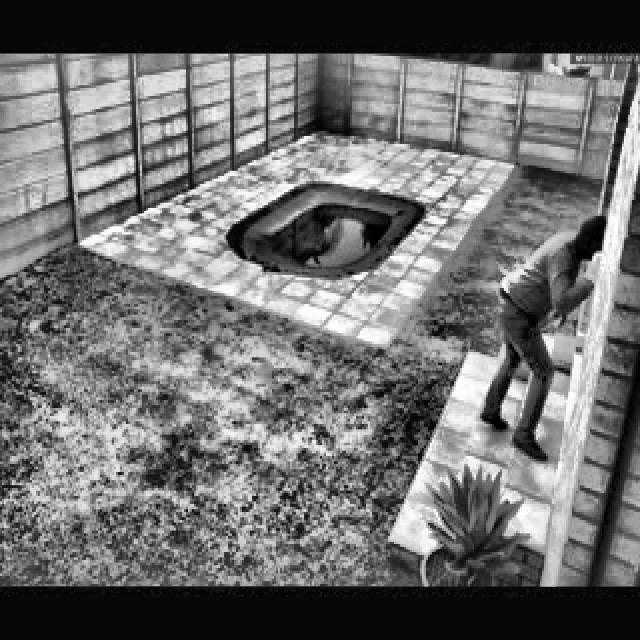burglary: (471, 210, 640, 470)
